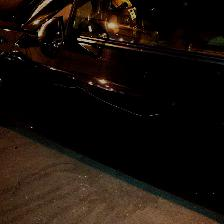door_scratch: (48, 73, 173, 127)
